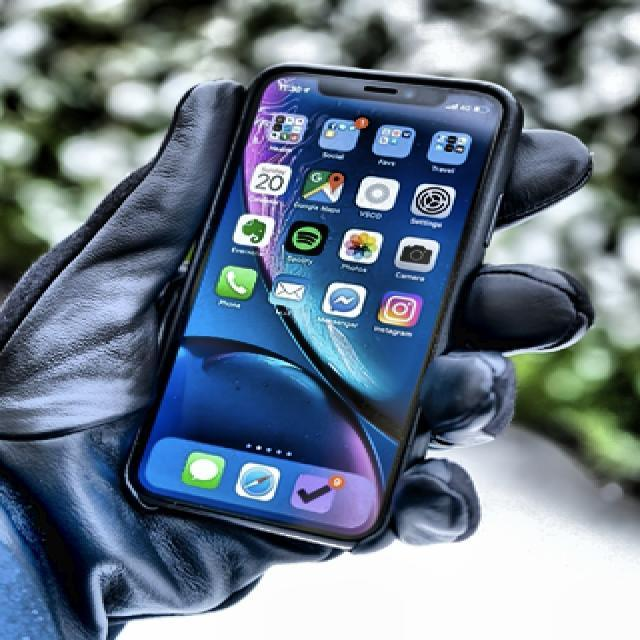Phone: (124, 63, 524, 550)
